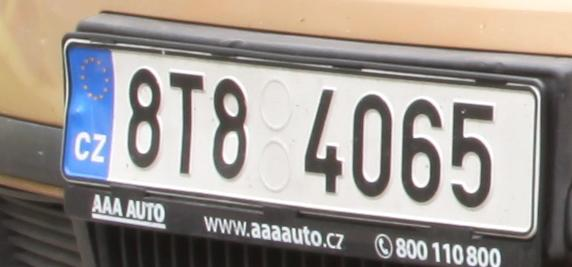0: (352, 92, 392, 198)
4: (304, 89, 345, 197)
5: (449, 100, 497, 208)
6: (401, 98, 441, 204)
8: (124, 67, 162, 168), (214, 76, 248, 182)
T: (169, 67, 206, 177)
